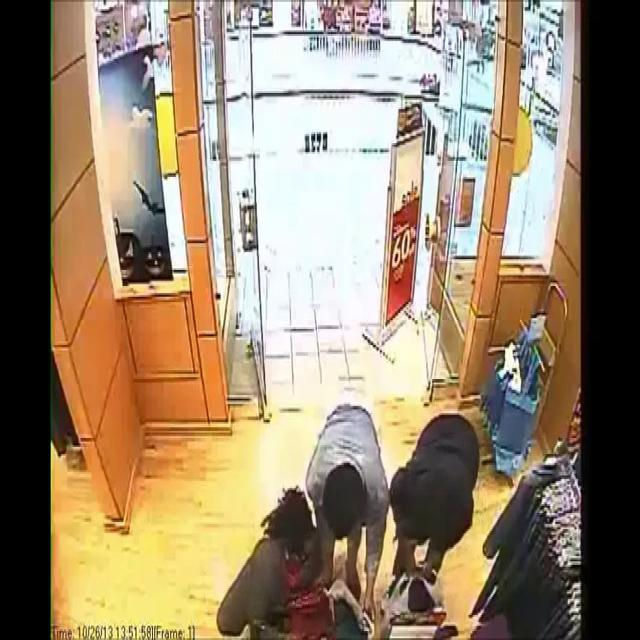Product: (289, 581, 332, 640)
normal: (295, 388, 393, 540)
shoplifting: (387, 418, 500, 640), (227, 476, 333, 640)
